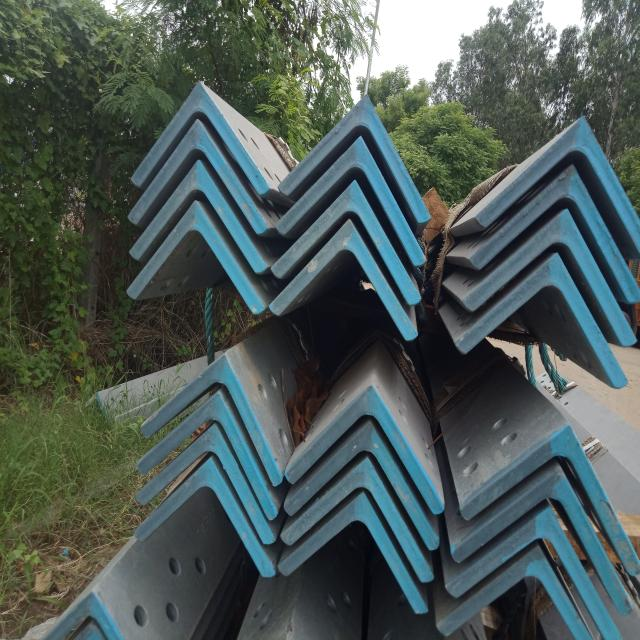metal-angles: (461, 423, 640, 577), (453, 466, 633, 615), (462, 208, 637, 346), (469, 163, 640, 303), (447, 506, 624, 640), (456, 252, 629, 388), (475, 115, 640, 254), (286, 384, 445, 514), (284, 421, 440, 550), (275, 136, 427, 267), (278, 93, 431, 222), (281, 457, 434, 582), (141, 352, 282, 487), (271, 180, 422, 305), (269, 218, 418, 342), (137, 390, 279, 520), (278, 491, 428, 614), (133, 457, 276, 577), (136, 423, 276, 545), (128, 118, 267, 234), (131, 81, 270, 196), (127, 200, 266, 315), (129, 159, 267, 273), (437, 544, 593, 640), (43, 591, 125, 640)
